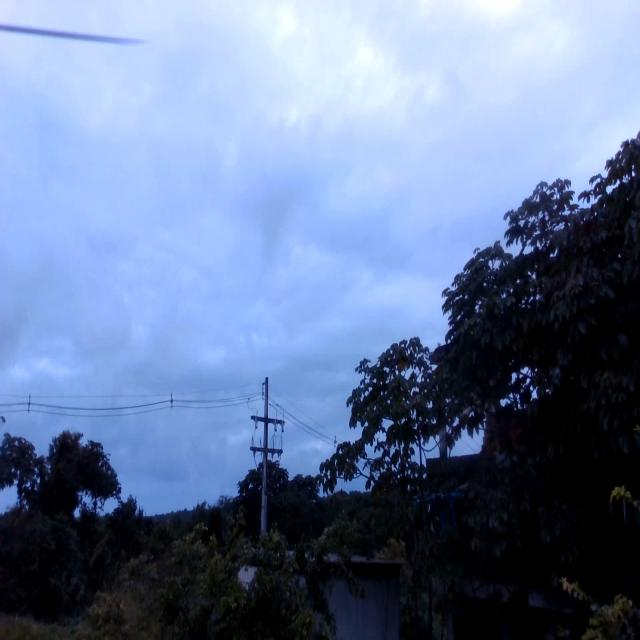-uav-: (403, 468, 472, 541)
